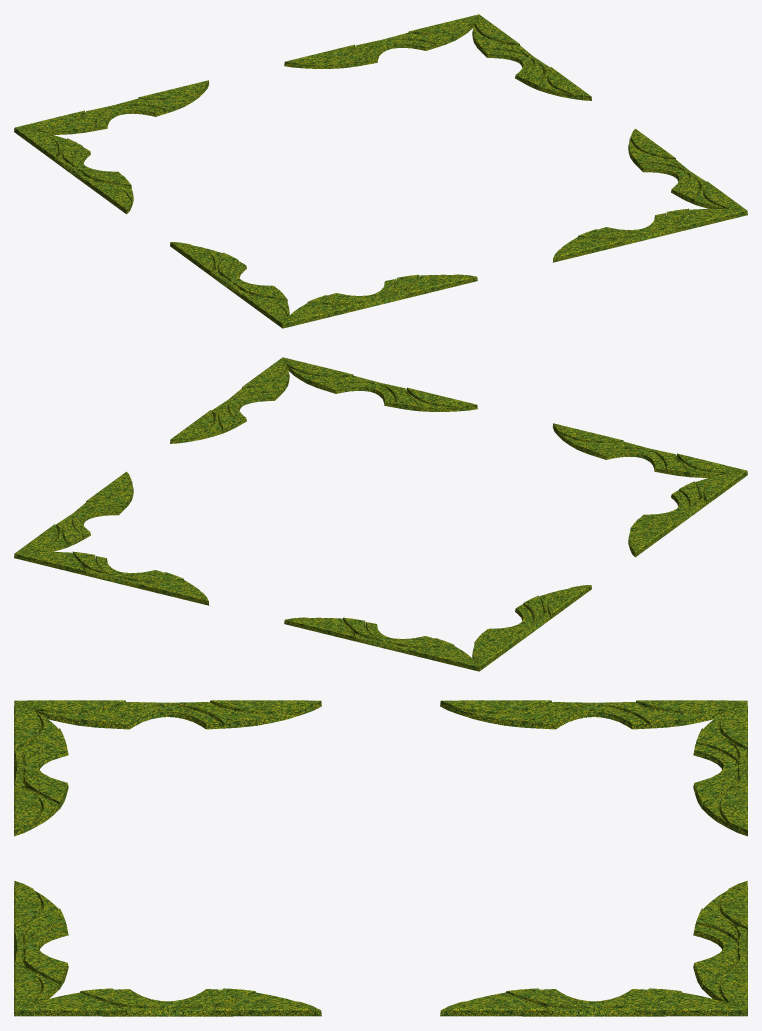
Rendered from Office_005_grass.FBX.
3 renders of one model, top to bottom at view 1: azimuth 30°, elevation 25°; view 2: azimuth 150°, elevation 25°; view 3: azimuth 270°, elevation 25°, orthographic. The views are drawn at different scales.
Visible parts, largest first — view 1: Office_005_grass; view 2: Office_005_grass; view 3: Office_005_grass.
Part boxes in pixels (bbox=[...]): Office_005_grass: bbox=[14, 14, 747, 328]; Office_005_grass: bbox=[14, 357, 747, 671]; Office_005_grass: bbox=[14, 700, 747, 1016].
Bounding box in the file's own units: 95.49 × 0.9817 × 95.49.
